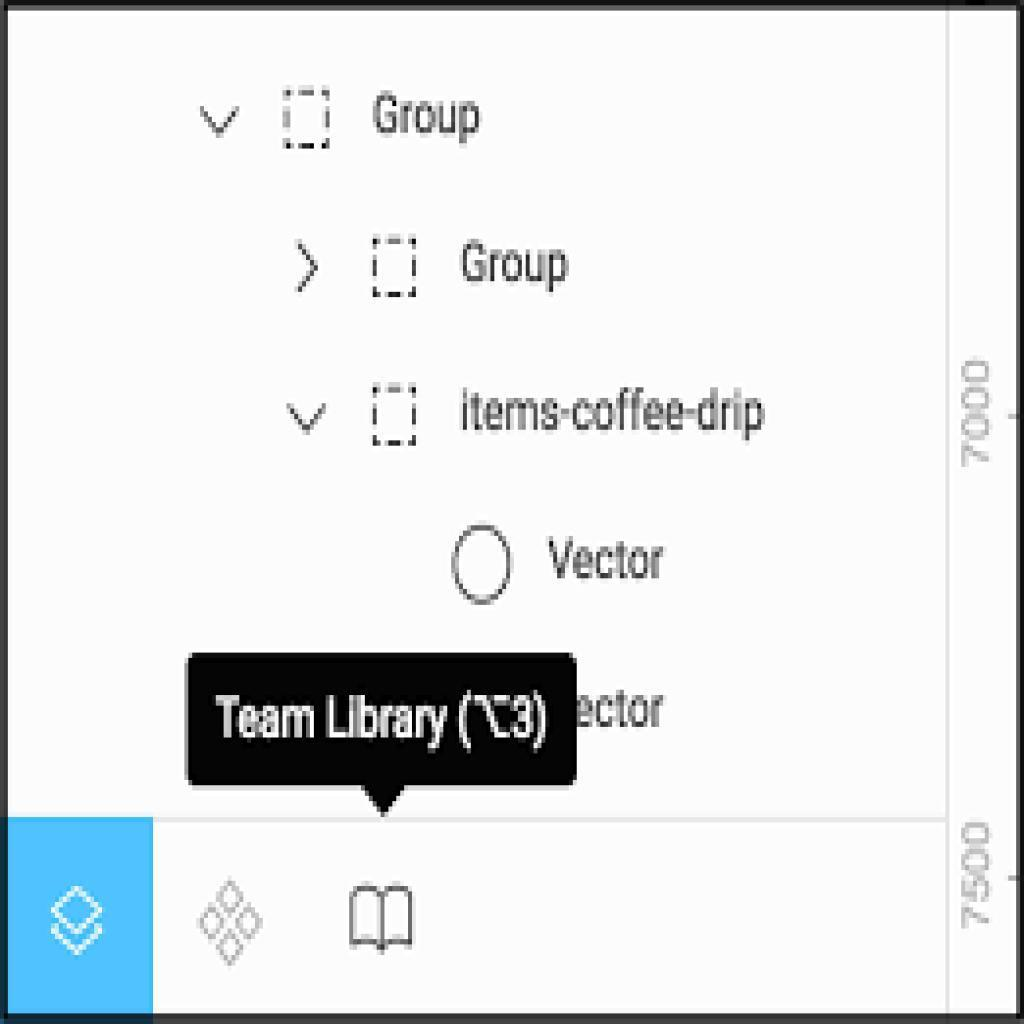checkbox: (370, 380, 421, 456), (281, 87, 335, 155), (370, 232, 420, 304)
icon: (190, 874, 276, 969), (344, 882, 422, 965), (47, 881, 112, 967), (281, 395, 336, 443), (192, 101, 244, 143), (291, 235, 323, 301)
label: (450, 385, 770, 443), (544, 534, 672, 591), (369, 86, 484, 149), (455, 235, 578, 293)
radio: (449, 518, 514, 609)
